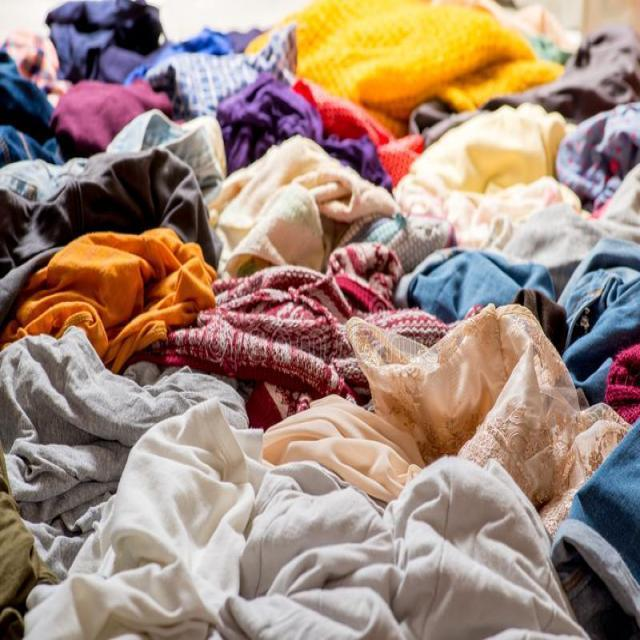clothes: (368, 306, 597, 512), (403, 143, 640, 342), (91, 408, 238, 640), (402, 439, 561, 640), (282, 5, 522, 134), (3, 340, 152, 520), (189, 261, 339, 403), (236, 499, 384, 640), (21, 241, 204, 347), (218, 144, 334, 299), (136, 45, 294, 134), (0, 48, 57, 170), (59, 86, 145, 162)
